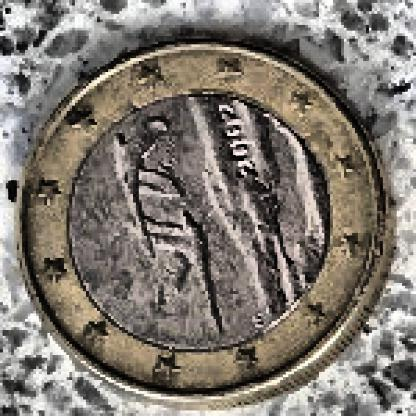coin: (13, 40, 395, 410)
